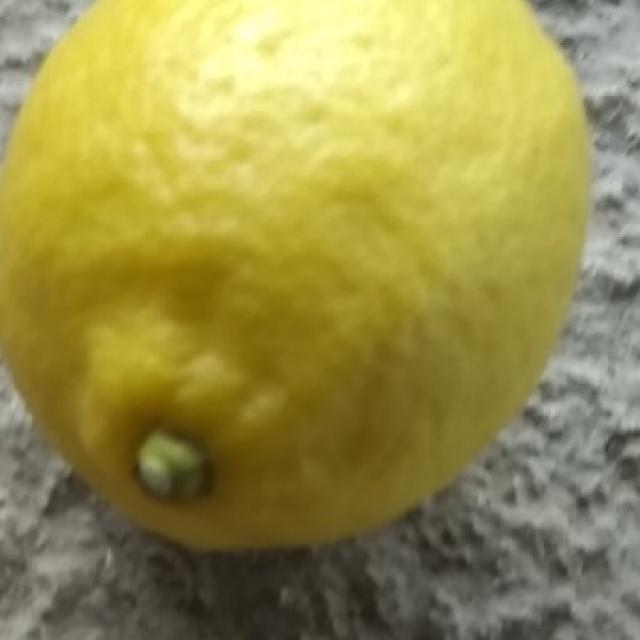Ripe: (2, 0, 595, 557)
